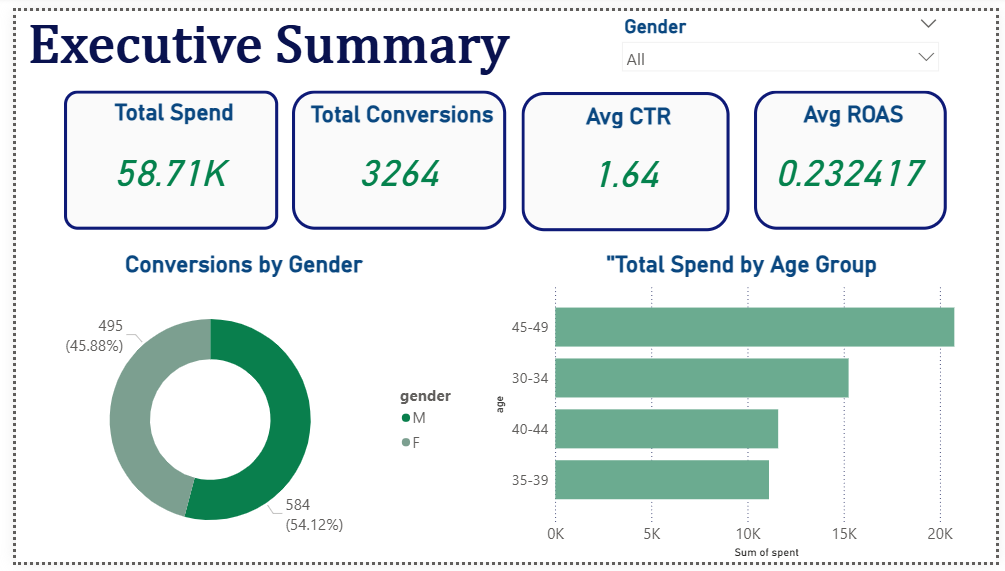

The dashboard page shown, as its layout file describes it:
{"tool":"powerbi","page":{"name":"Page 1","canvas":[1280,720],"ordinal":0},"visuals":[{"type":"textbox","box":[10,0,836,104],"z":0},{"type":"advanceCardE03760C5AB684758B56AA29F9E6C257B","title":"Total Spend","fields":{"mainMeasure":["Sum(cleaned_ad_data.spent)"]},"box":[62,104,280,182],"z":1000},{"type":"advanceCardE03760C5AB684758B56AA29F9E6C257B","title":"Total Conversions","fields":{"mainMeasure":["Sum(cleaned_ad_data.total_conversion)"]},"box":[360,104,280,182],"z":2000},{"type":"advanceCardE03760C5AB684758B56AA29F9E6C257B","title":"Avg ROAS","fields":{"mainMeasure":["Avg(cleaned_ad_data.roas)"]},"box":[964,104,252,182],"z":3000},{"type":"clusteredBarChart","title":"\"Total Spend by Age Group","fields":{"Category":["cleaned_ad_data.age"],"Y":["Sum(cleaned_ad_data.spent)"]},"box":[618,314,662,406],"z":4000},{"type":"donutChart","title":"Conversions by Gender","fields":{"Category":["cleaned_ad_data.gender"],"Y":["Sum(cleaned_ad_data.approved_conversion)"]},"box":[0,314,596,406],"z":5000},{"type":"slicer","fields":{"Values":["cleaned_ad_data.gender"]},"box":[782,0,434,104],"z":6000},{"type":"advanceCardE03760C5AB684758B56AA29F9E6C257B","title":"Avg CTR","fields":{"mainMeasure":["cleaned_ad_data.Avg CTR %"]},"box":[660,106,272,182],"z":7000}]}

Visuals, with their boxes in screenshot pixels (x1, y1, x2, y2), scaled from the page's 1280x720 canvas onto the 1005x571 screenshot:
textbox: [8,0,664,82]
"Total Spend" advanceCardE03760C5AB684758B56AA29F9E6C257B: [49,82,269,227]
"Total Conversions" advanceCardE03760C5AB684758B56AA29F9E6C257B: [283,82,502,227]
"Avg ROAS" advanceCardE03760C5AB684758B56AA29F9E6C257B: [757,82,955,227]
""Total Spend by Age Group" clusteredBarChart: [485,249,1004,570]
"Conversions by Gender" donutChart: [0,249,468,570]
slicer - cleaned_ad_data.gender: [614,0,955,82]
"Avg CTR" advanceCardE03760C5AB684758B56AA29F9E6C257B: [518,84,732,228]
